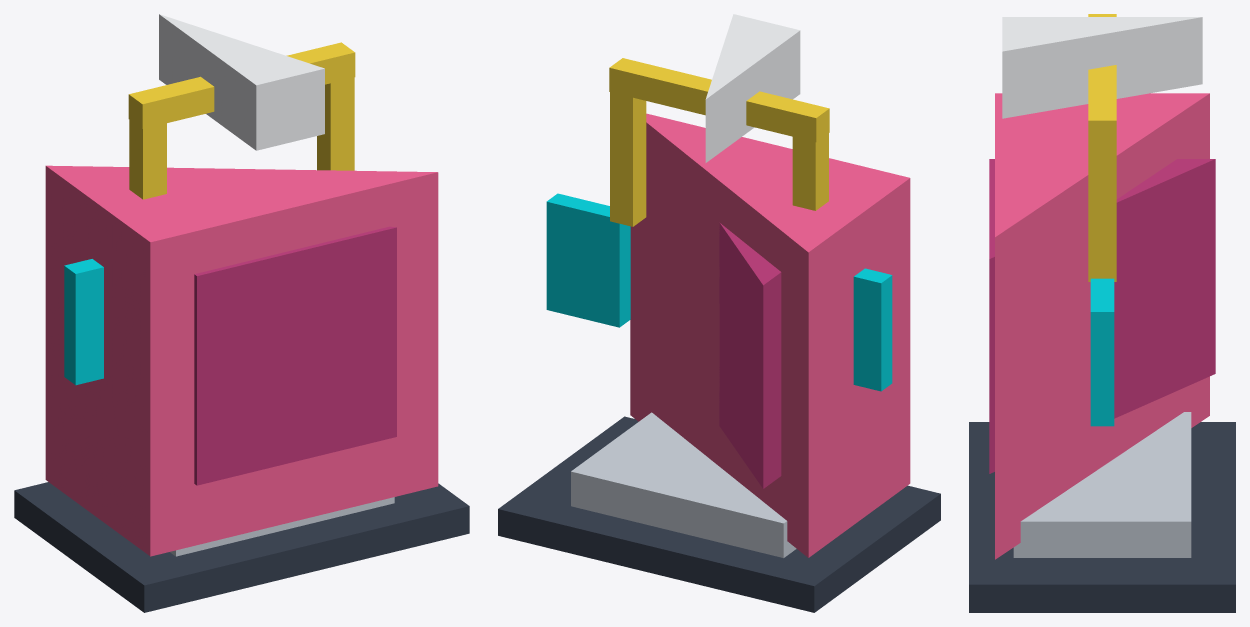
The model's file is Trophy_Triangle.fbx.
3 renders of one model, left to right at view 1: azimuth 30°, elevation 25°; view 2: azimuth 150°, elevation 25°; view 3: azimuth 270°, elevation 25°, orthographic. The views are drawn at different scales.
Parts seen in each view (by area): view 1: Trophy_Triangle; view 2: Trophy_Triangle; view 3: Trophy_Triangle.
Boxes of the visible parts, left/top/right/bottom form: Trophy_Triangle: left=14, top=14, right=469, bottom=612; Trophy_Triangle: left=498, top=14, right=940, bottom=612; Trophy_Triangle: left=969, top=14, right=1235, bottom=612.
Bounding box in the file's own units: 550 × 740 × 360.
